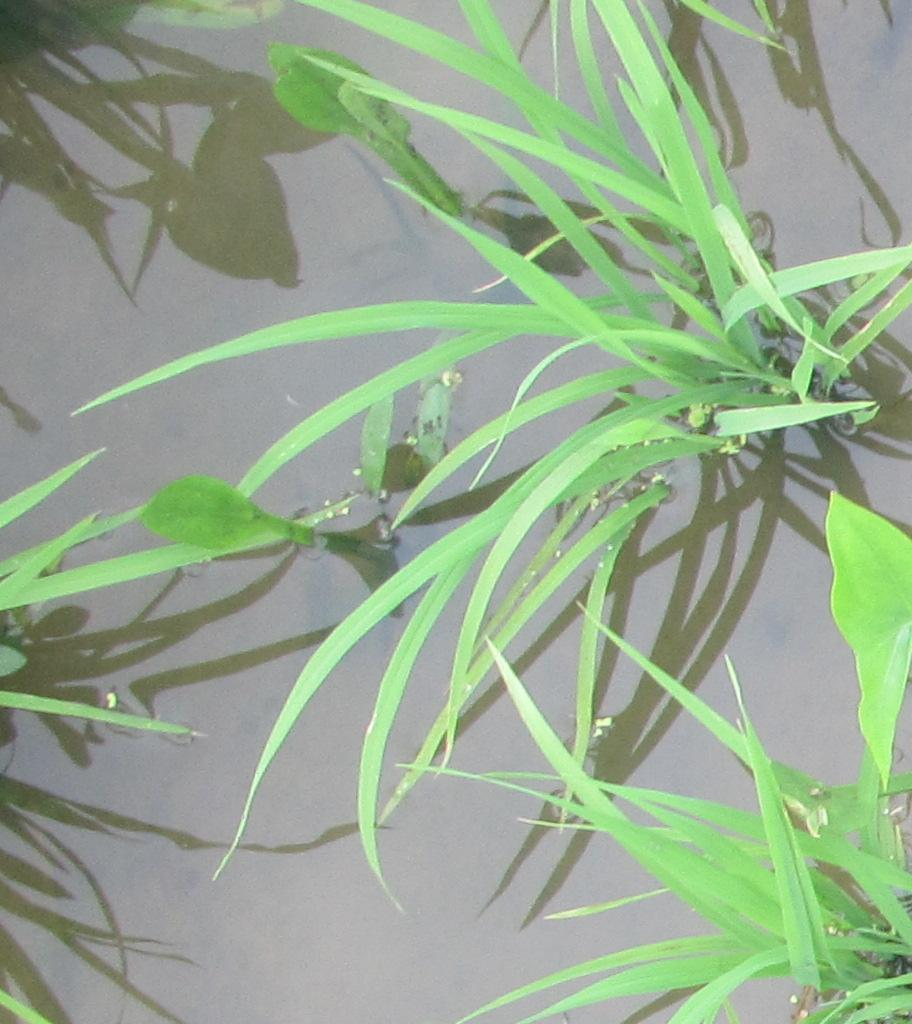Weed: (819, 483, 912, 793), (132, 467, 352, 580), (257, 39, 419, 152)
